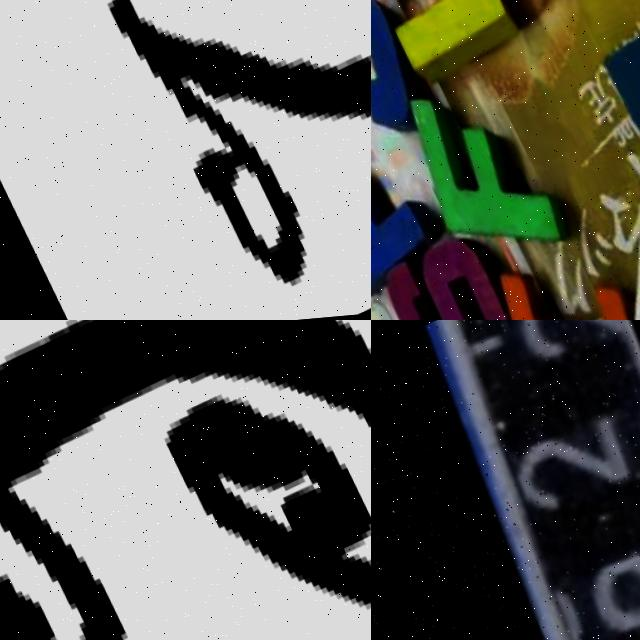2: (474, 392, 640, 548), (492, 320, 640, 398)
9: (554, 516, 640, 640)
F: (383, 55, 573, 281)
I: (470, 235, 640, 320)
J: (371, 0, 430, 147)
L: (371, 0, 528, 99)
M: (585, 0, 640, 204)
P: (371, 119, 438, 308)
S: (371, 226, 528, 320)
U: (0, 0, 371, 320)
